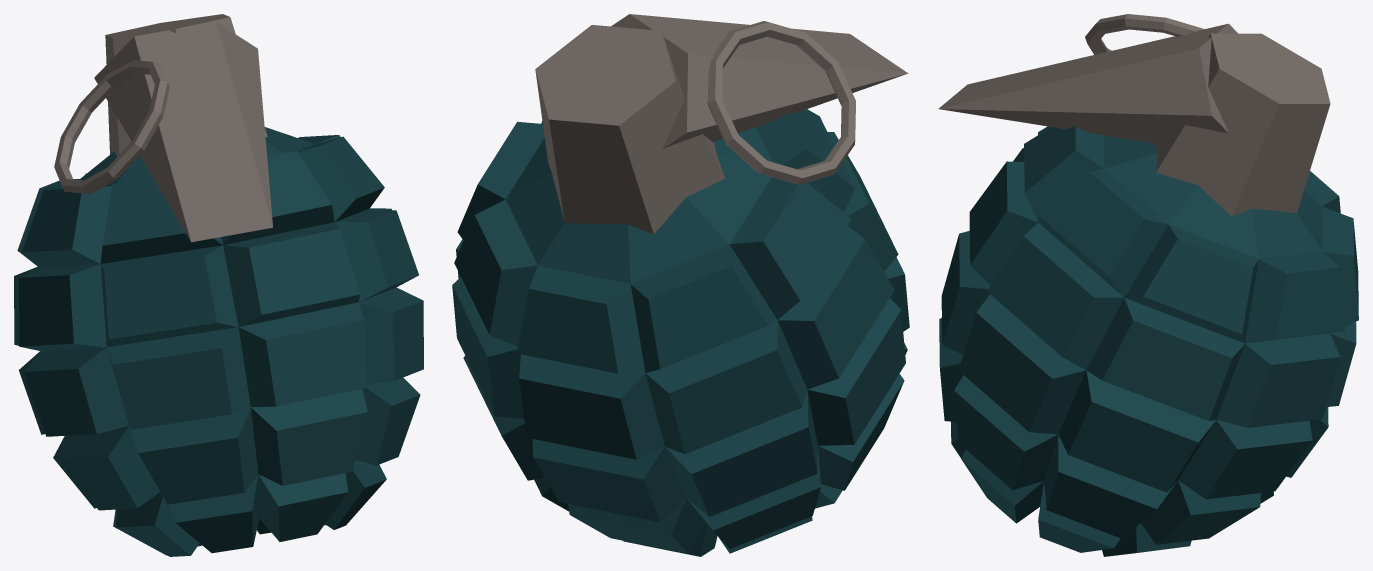
Rendered from Bad Food 2.fbx.
The picture shows the model from 3 angles, left to right: view 1: azimuth 30°, elevation 25°; view 2: azimuth 150°, elevation 25°; view 3: azimuth 270°, elevation 25°; orthographic projection. The views are drawn at different scales.
Visible parts, largest first — view 1: Bad Food_002; view 2: Bad Food_002; view 3: Bad Food_002.
Part boxes in pixels (left/top/right/bottom): Bad Food_002: left=14, top=14, right=423, bottom=556; Bad Food_002: left=452, top=14, right=909, bottom=556; Bad Food_002: left=938, top=14, right=1358, bottom=556.
Bounding box in the file's own units: 17.58 × 24.11 × 18.29.
